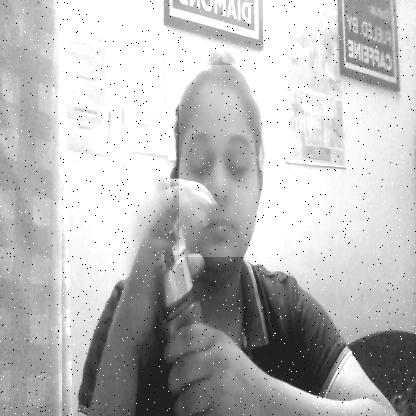Normal: (179, 65, 280, 257)
